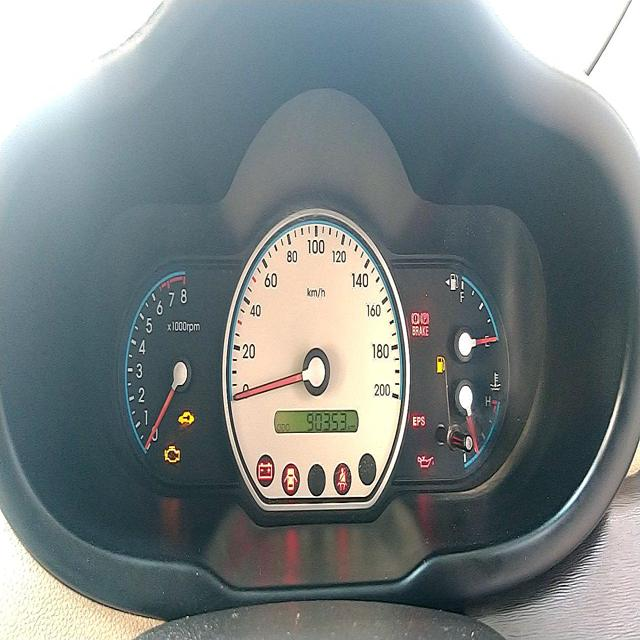odometer: (305, 408, 348, 432)
